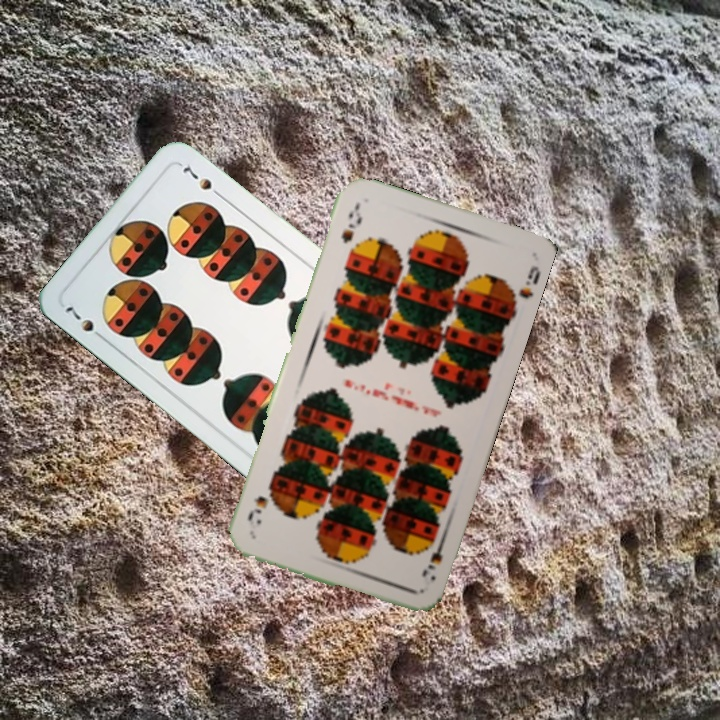S7: (61, 301, 109, 344)
S9: (417, 531, 448, 580), (337, 200, 364, 246)
